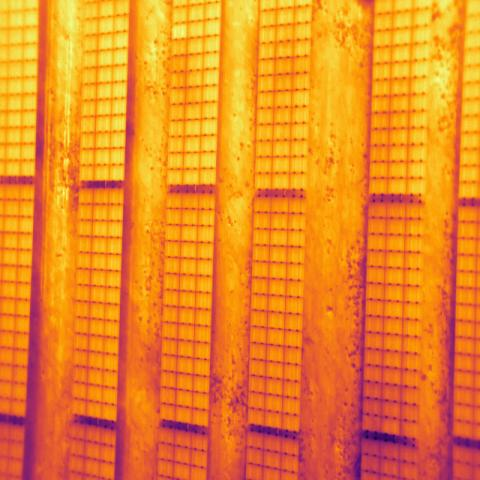fault: (170, 21, 189, 41)
